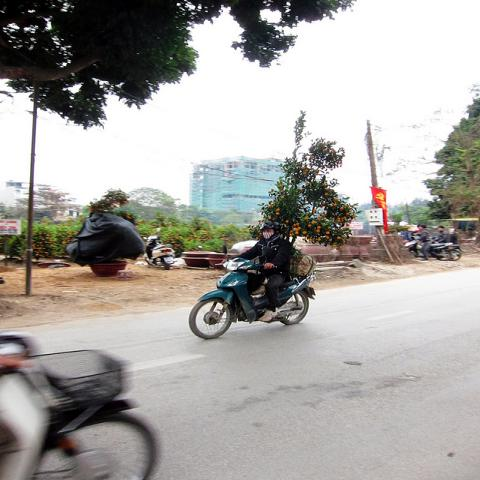motorcycle: (0, 329, 162, 479), (178, 239, 320, 339), (144, 234, 178, 271), (404, 238, 453, 260), (450, 244, 462, 261)
